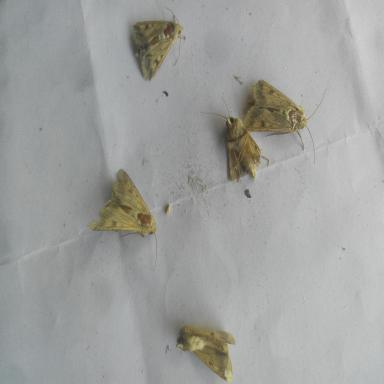abw: (237, 70, 330, 169), (85, 166, 160, 275), (198, 92, 272, 185), (127, 4, 189, 86), (172, 322, 240, 384)
